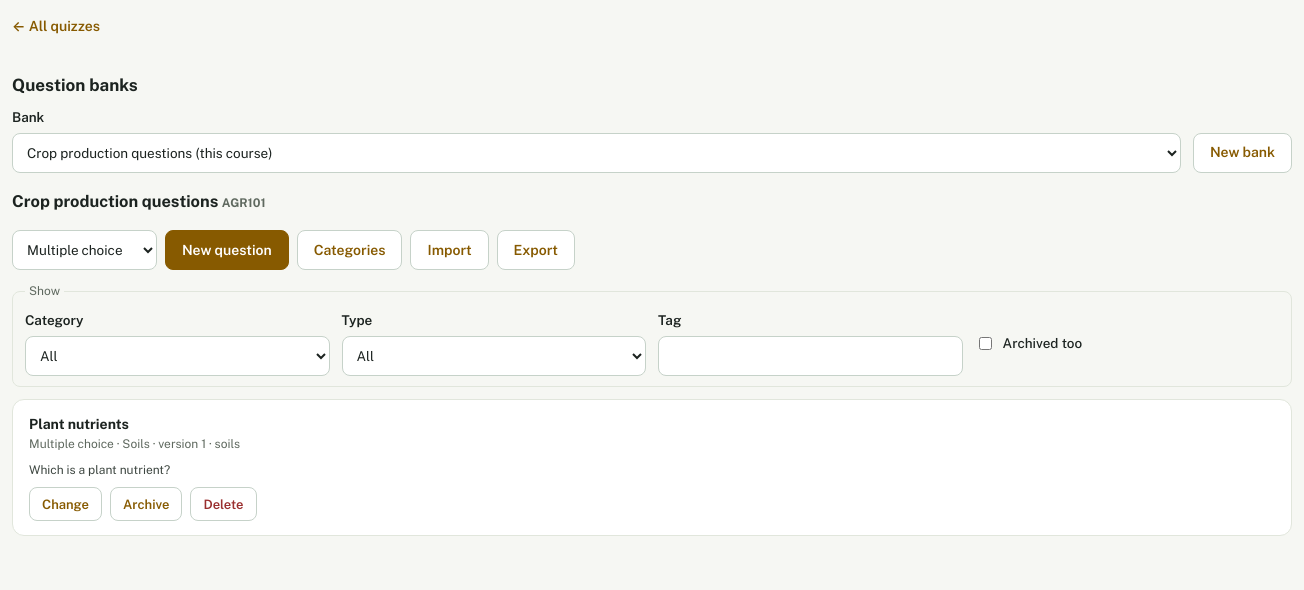
Scenario: question banks (item 3.01) › refuses to delete a question in use, as the server says
The width and height of the screenshot is (1304, 590).
What coordinates should you click on to do the following:
click the button with aria-label "Delete “Plant nutrients”"
I would click on:
 (224, 504)
Its box is x1=190 y1=487 x2=257 y2=521.
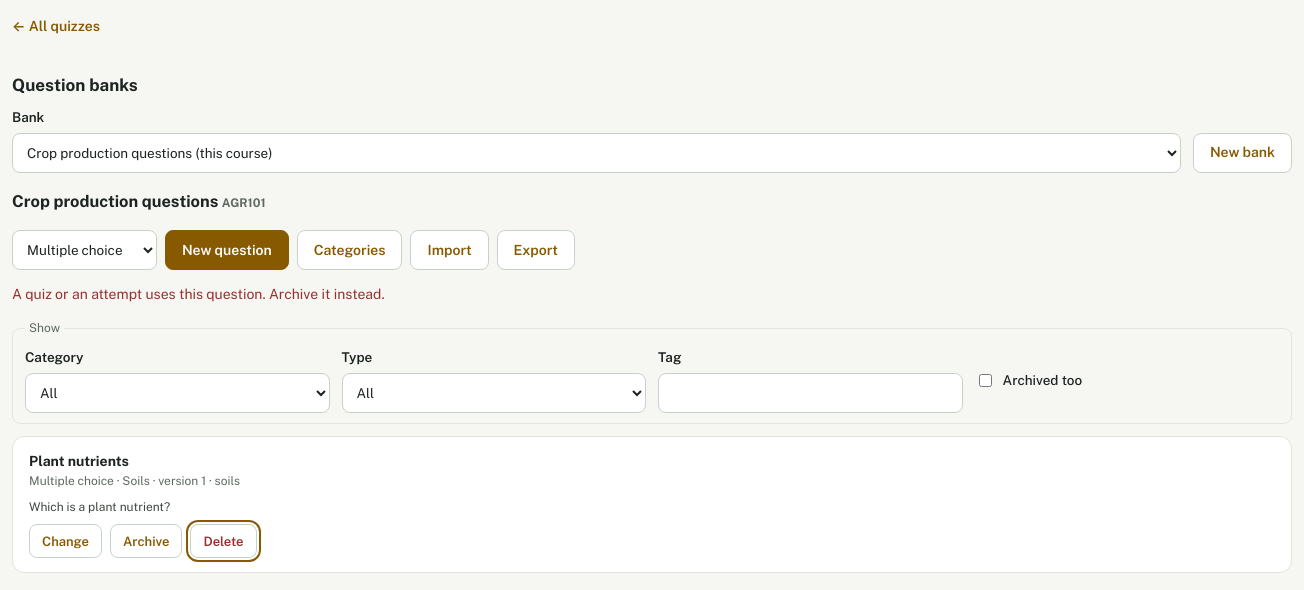
Expected: the message shows "Archive it instead.", x1=12 y1=286 x2=385 y2=302
